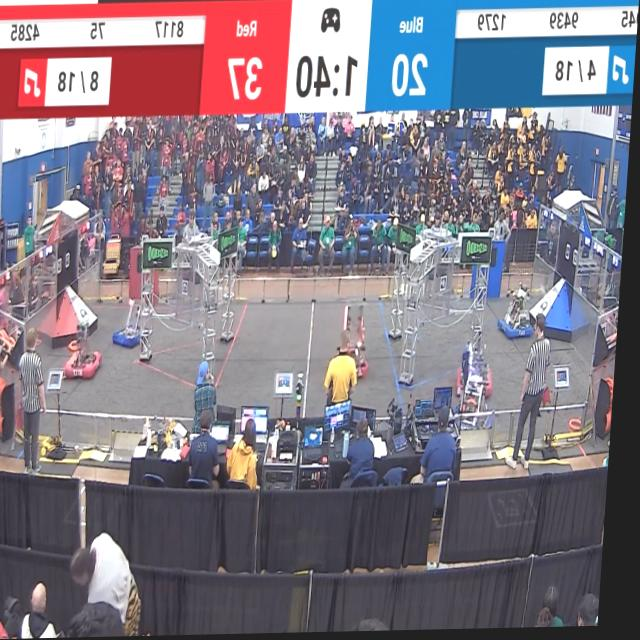Robot: (457, 334, 501, 415), (340, 303, 381, 382), (65, 320, 111, 385), (501, 285, 541, 346), (116, 296, 151, 355)
